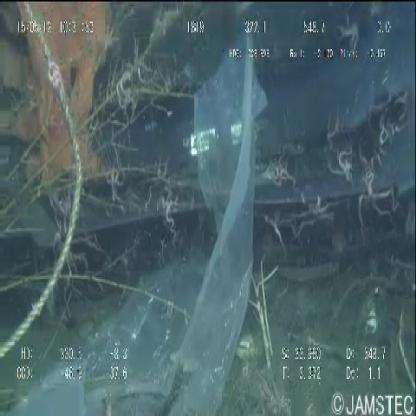Rác: (12, 30, 268, 415)
